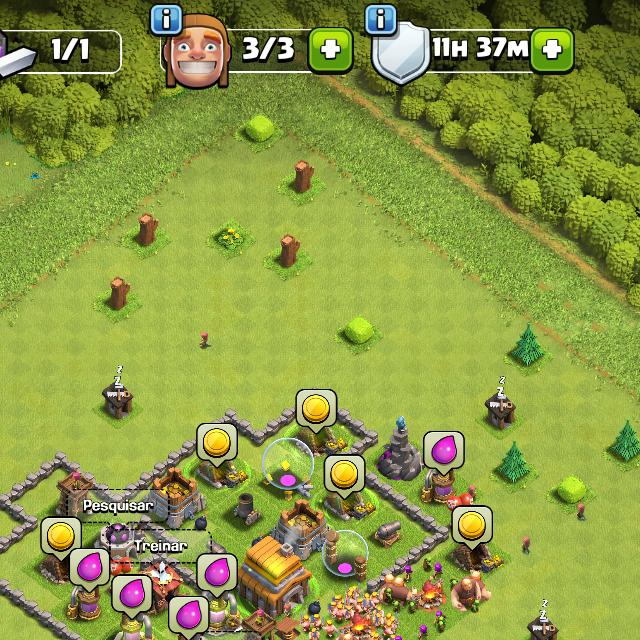Elixir: (197, 552, 238, 600), (425, 431, 465, 477), (170, 596, 210, 640), (72, 549, 112, 592), (114, 576, 151, 618)
coin: (325, 454, 367, 502), (196, 423, 239, 469), (296, 388, 338, 434), (452, 505, 493, 551), (42, 516, 82, 562)
